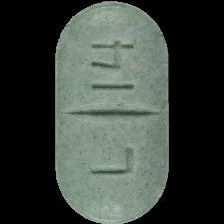54868-2271: (0, 0, 224, 224)
